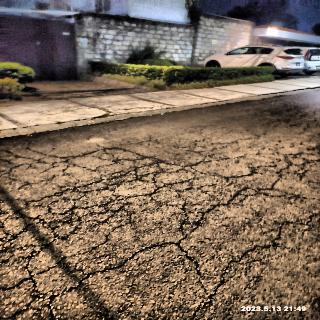alligator-crack: (3, 140, 320, 320)
